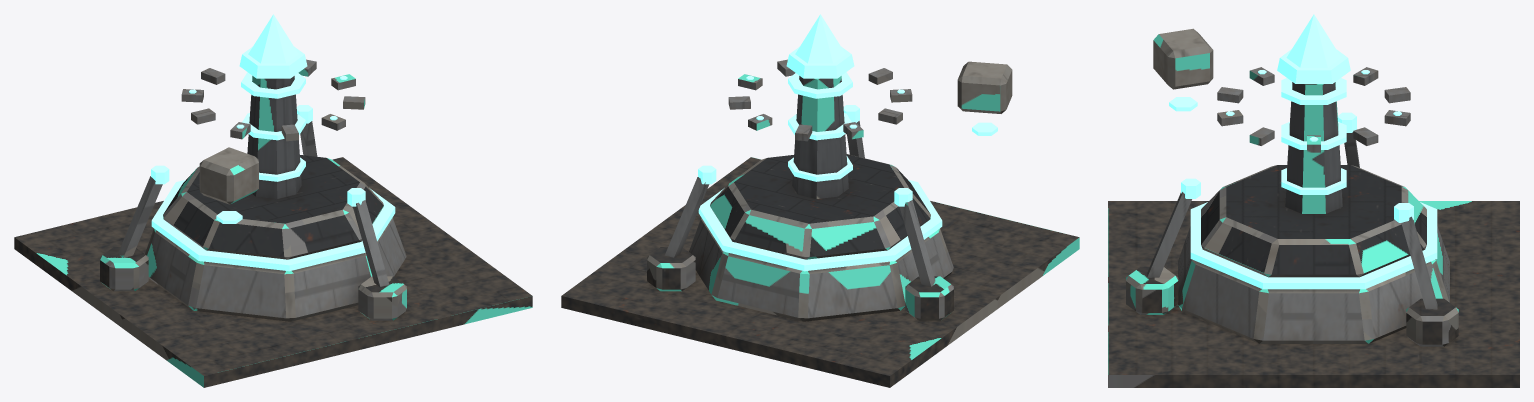
Rendered from terraplenagem.glb.
3 renders of one model, left to right at view 1: azimuth 30°, elevation 25°; view 2: azimuth 150°, elevation 25°; view 3: azimuth 270°, elevation 25°, orthographic. The views are drawn at different scales.
Visible parts, largest first — view 1: terraplenagem_corpo, terraplenagem_cabecote, terraplenagem_antena, terraplenagem_cristal; view 2: terraplenagem_corpo, terraplenagem_cabecote, terraplenagem_antena, terraplenagem_cristal; view 3: terraplenagem_corpo, terraplenagem_cabecote, terraplenagem_antena, terraplenagem_cristal.
Boxes of the visible parts, x1=… form: terraplenagem_corpo: x1=14, y1=72, x2=532, y2=387; terraplenagem_cabecote: x1=199, y1=147, x2=258, y2=223; terraplenagem_antena: x1=181, y1=59, x2=365, y2=141; terraplenagem_cristal: x1=239, y1=14, x2=307, y2=78; terraplenagem_corpo: x1=561, y1=72, x2=1079, y2=387; terraplenagem_cabecote: x1=957, y1=61, x2=1012, y2=135; terraplenagem_antena: x1=728, y1=59, x2=912, y2=141; terraplenagem_cristal: x1=786, y1=14, x2=854, y2=78; terraplenagem_corpo: x1=1108, y1=78, x2=1519, y2=387; terraplenagem_cabecote: x1=1153, y1=28, x2=1213, y2=111; terraplenagem_antena: x1=1217, y1=67, x2=1410, y2=152; terraplenagem_cristal: x1=1277, y1=14, x2=1350, y2=83.
Size of the model in its own units: 2.9 by 2.23 by 2.9.
Materials: 2 (1 with a texture image).
